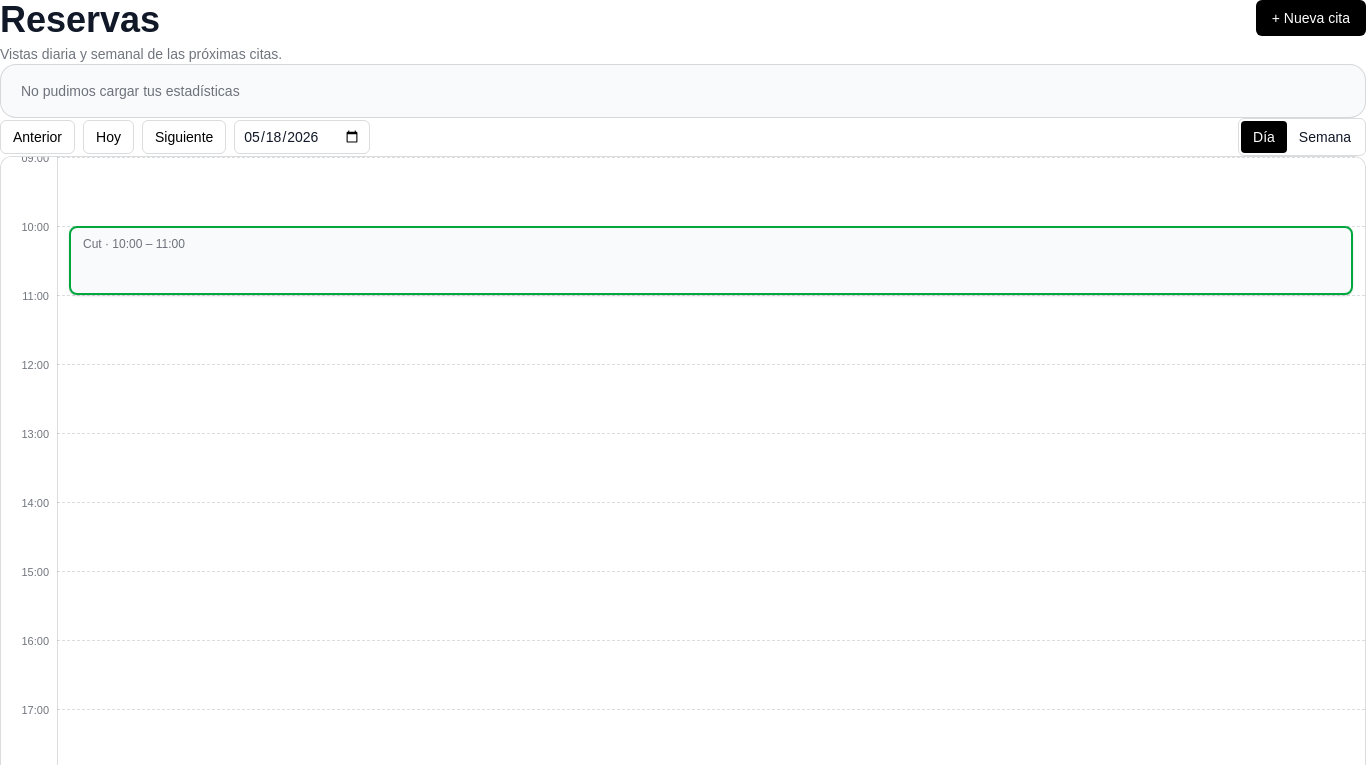
Test: AdminBookingsPage › surfaces charge failures from the no-show endpoint without throwing
What coordinates should you click on to do the following:
click the button with aria-label "pat guest"
I would click on:
 (127, 244)
Its box is 69,226 -> 1353,295.
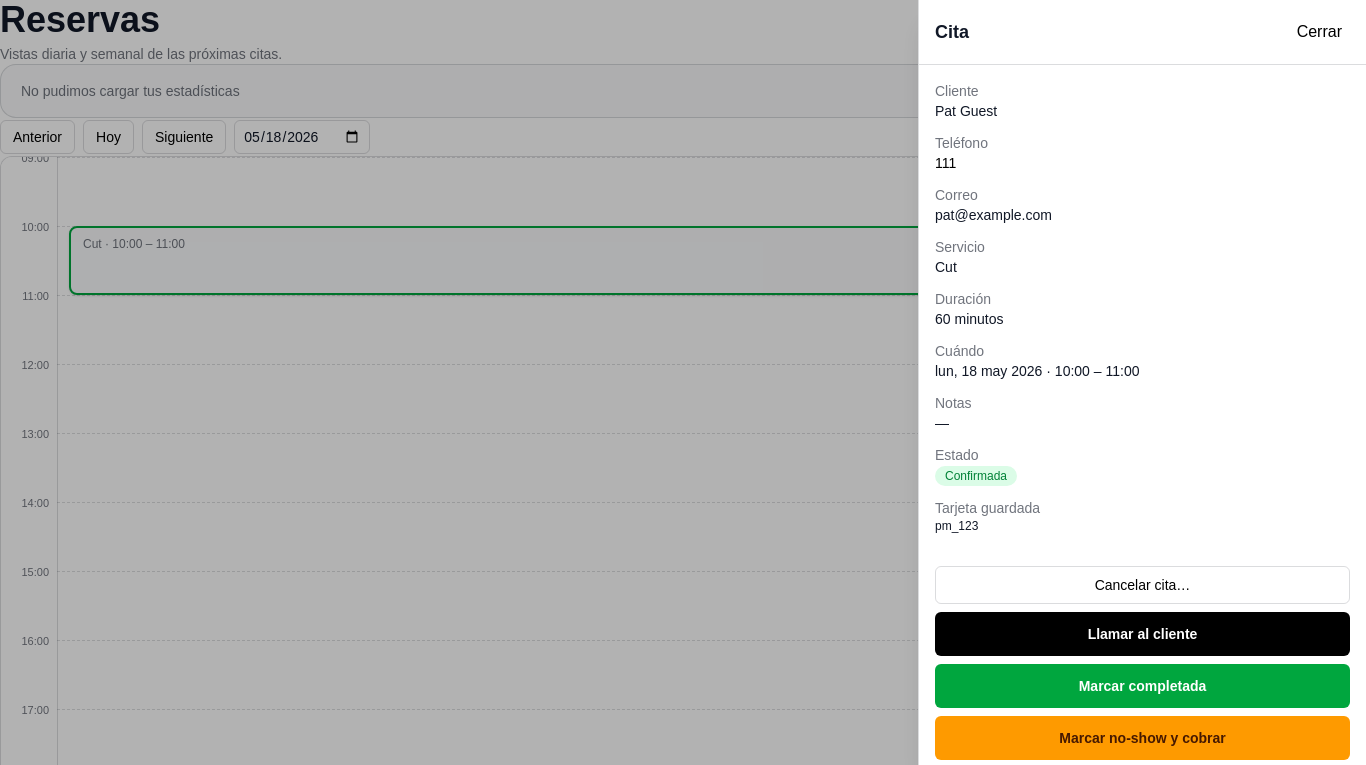
Result: the heading "Cita" is shown at 935,18 -> 969,46
What coordinates should you click on to do the following:
click the button "Marcar no-show y cobrar"
I would click on:
 (1142, 738)
Its box is 935,716 -> 1350,760.
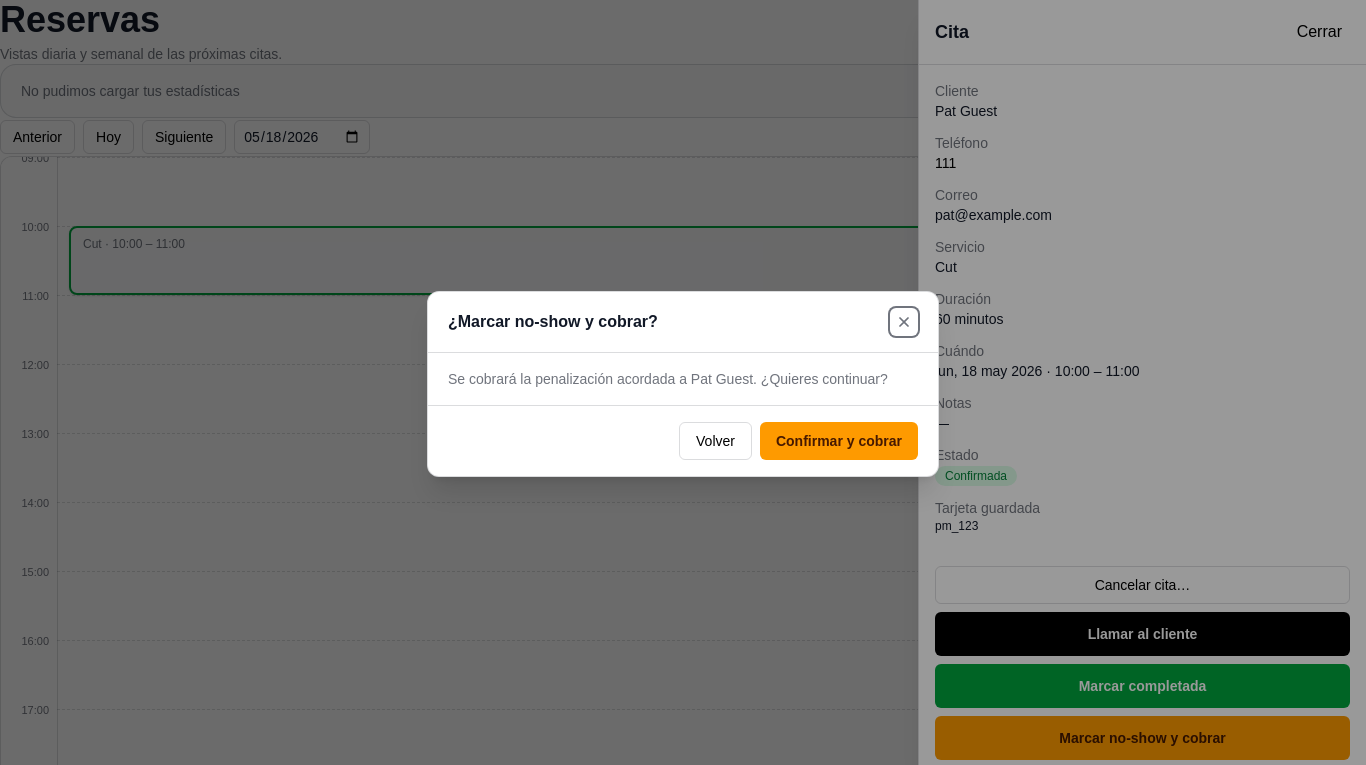
What coordinates should you click on to do the following:
click the button "Confirmar y cobrar"
I would click on:
 (839, 441)
Its box is 760,422 -> 918,460.
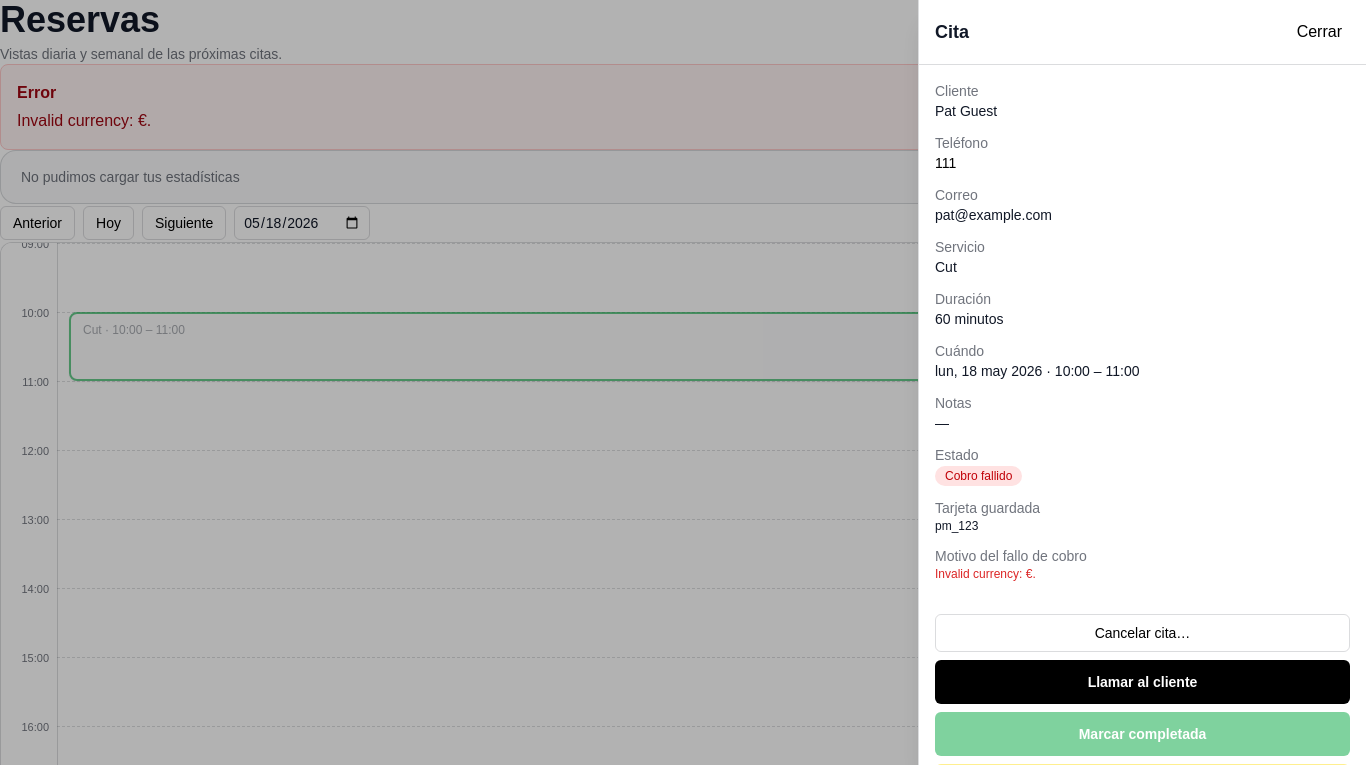
Result: the message shows "Invalid currency: €." at 17,112 -> 151,129
